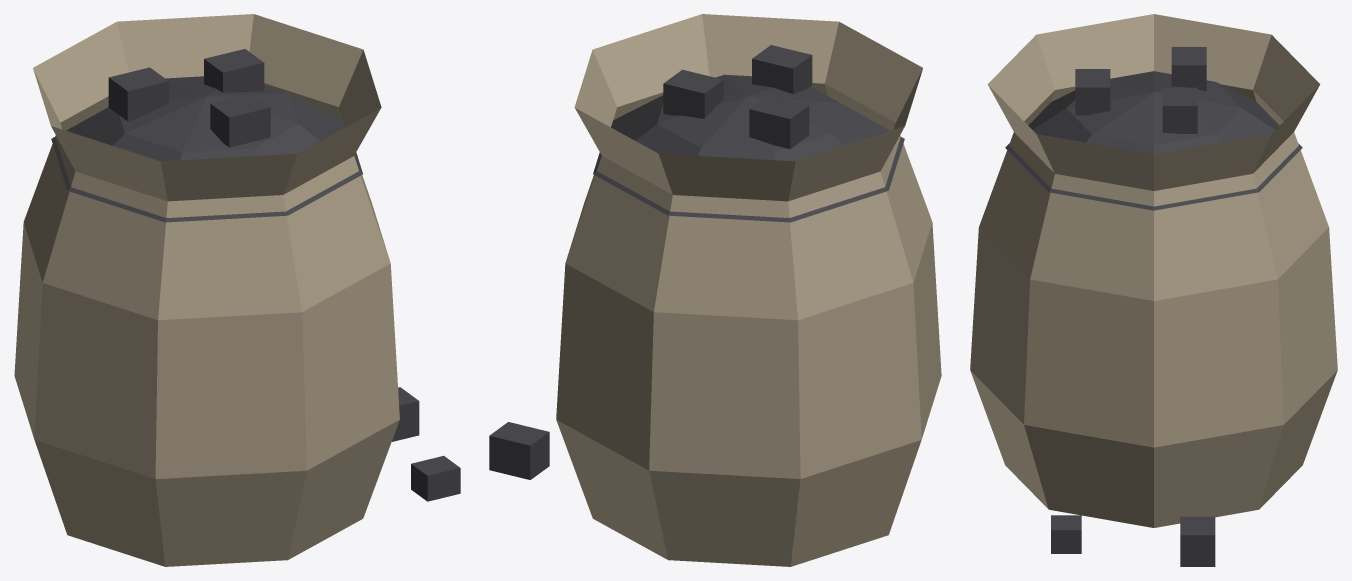
File: prop-charcoal-sack-open.fbx
The picture shows the model from 3 angles, left to right: view 1: azimuth 30°, elevation 25°; view 2: azimuth 150°, elevation 25°; view 3: azimuth 270°, elevation 25°; orthographic projection. The views are drawn at different scales.
Visible parts, largest first — view 1: prop-charcoal-sack-open; view 2: prop-charcoal-sack-open; view 3: prop-charcoal-sack-open.
Part boxes in pixels (left/top/right/bottom): prop-charcoal-sack-open: left=14, top=14, right=460, bottom=566; prop-charcoal-sack-open: left=489, top=14, right=941, bottom=566; prop-charcoal-sack-open: left=970, top=14, right=1337, bottom=566.
Bounding box in the file's own units: 48.5 × 48.75 × 42.
